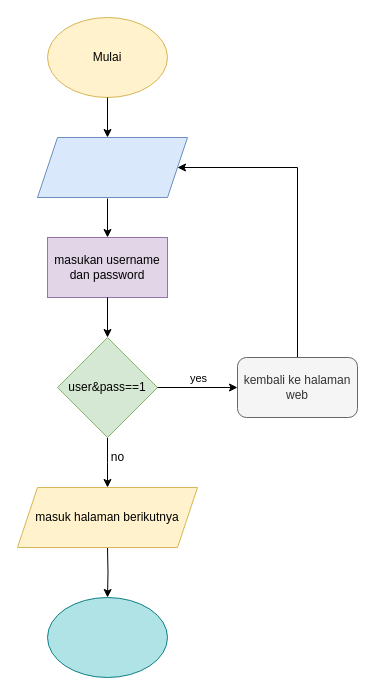
Some shapes in this 375 by 695 pixel diagram are drawn without their labels. The box of each missing label's shape, as (x1, y1, x2, y2) in pixels:
masuk halaman login: (36, 136, 188, 198)
selesai: (46, 596, 168, 678)
